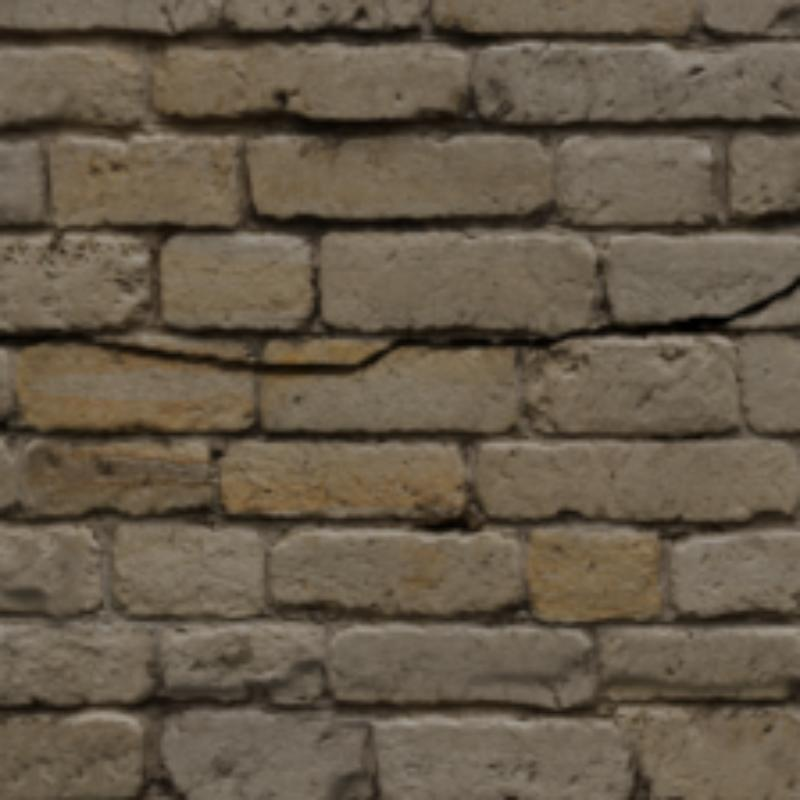pothole: (0, 275, 796, 371)
